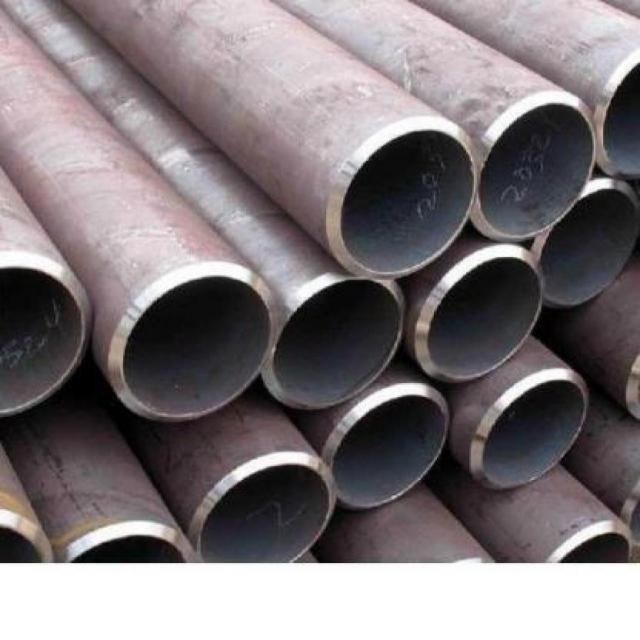pipe: (113, 269, 275, 423), (332, 125, 477, 279), (265, 274, 407, 410), (471, 99, 598, 243), (415, 249, 546, 384), (322, 389, 450, 509), (192, 458, 337, 563), (470, 370, 590, 490), (0, 258, 89, 415), (533, 177, 640, 306), (58, 518, 200, 563), (598, 46, 640, 177), (546, 515, 640, 564)
